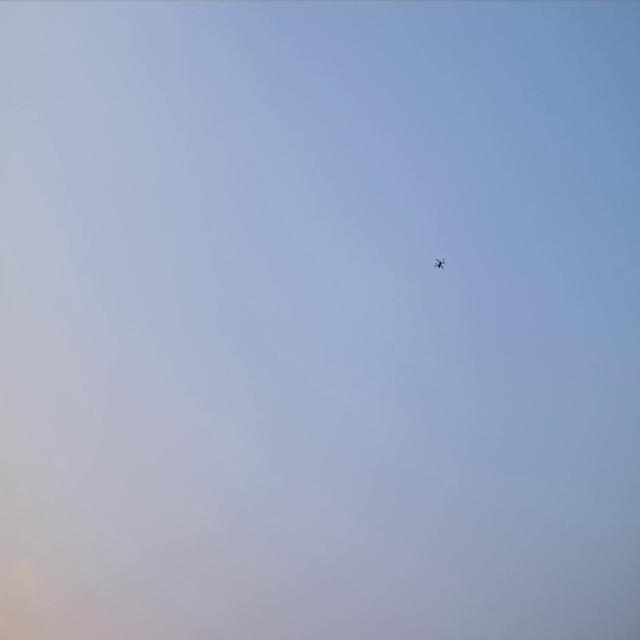UAV: (434, 256, 445, 270)
